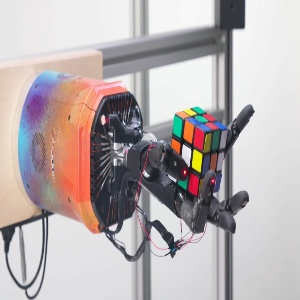cube: (169, 105, 228, 199)
